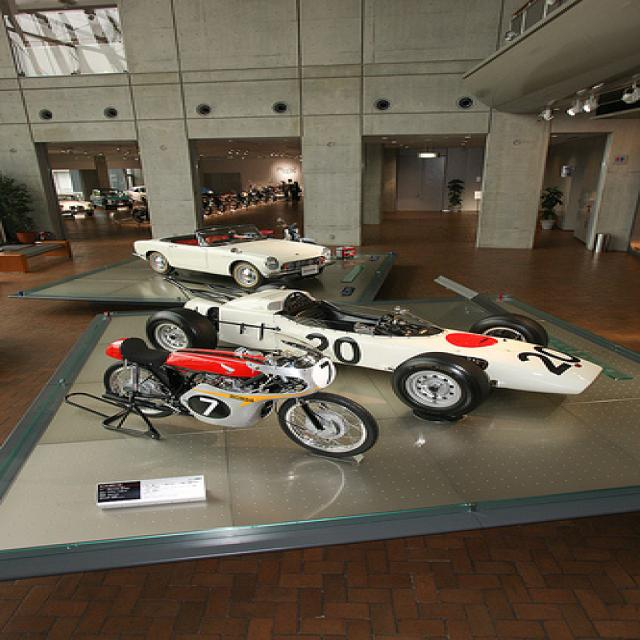motor: (108, 339, 375, 456), (231, 190, 261, 209), (201, 197, 226, 215), (250, 188, 266, 205)
